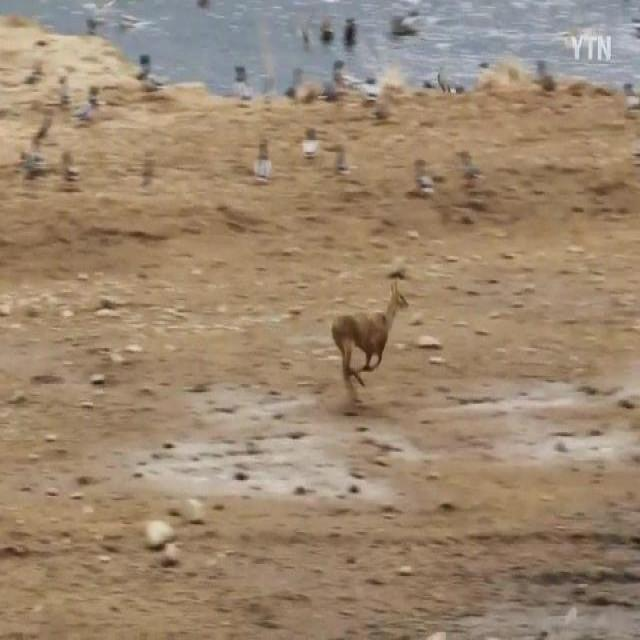deer: (330, 278, 412, 398)
